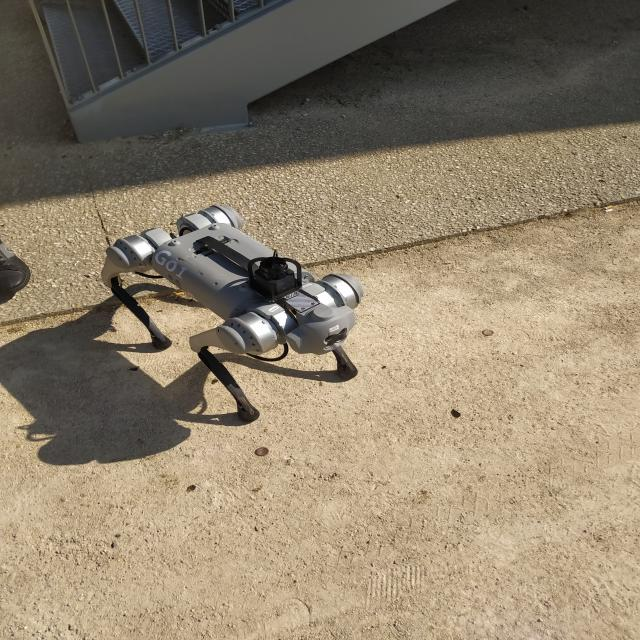unitree-go1-robot: (95, 200, 370, 430)
